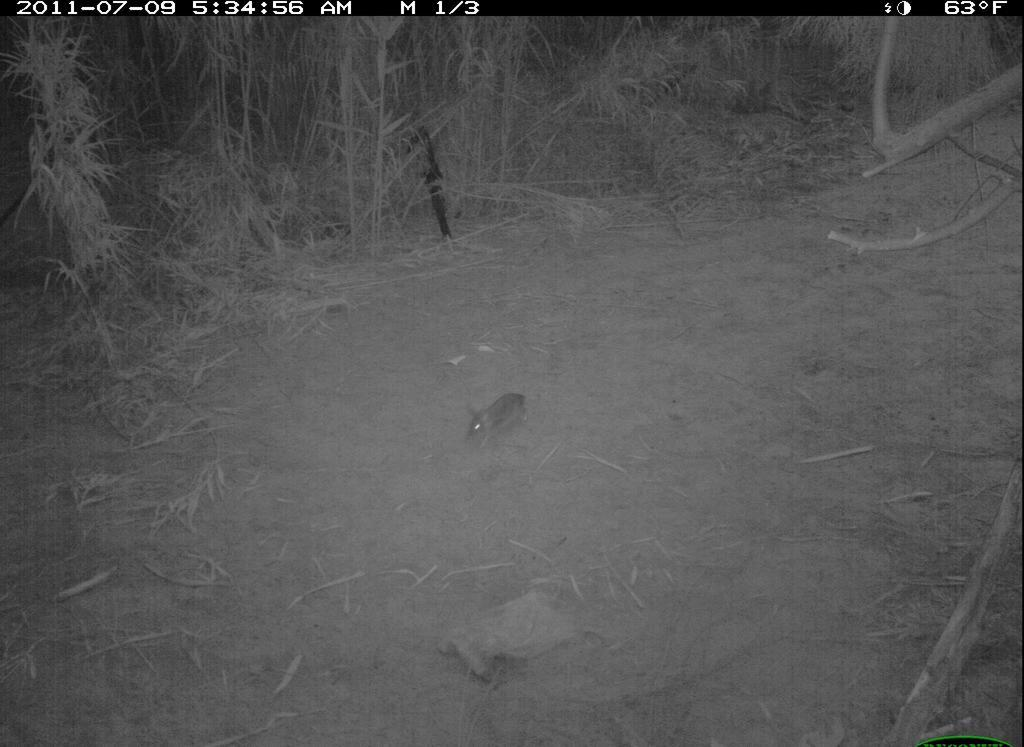rabbit: (456, 387, 536, 459)
